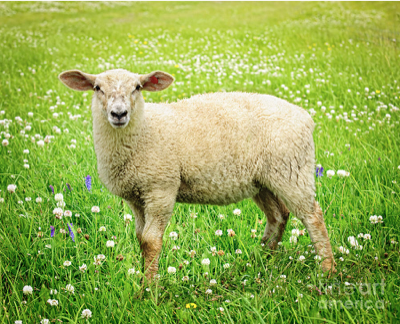koyun: (57, 68, 337, 289)
